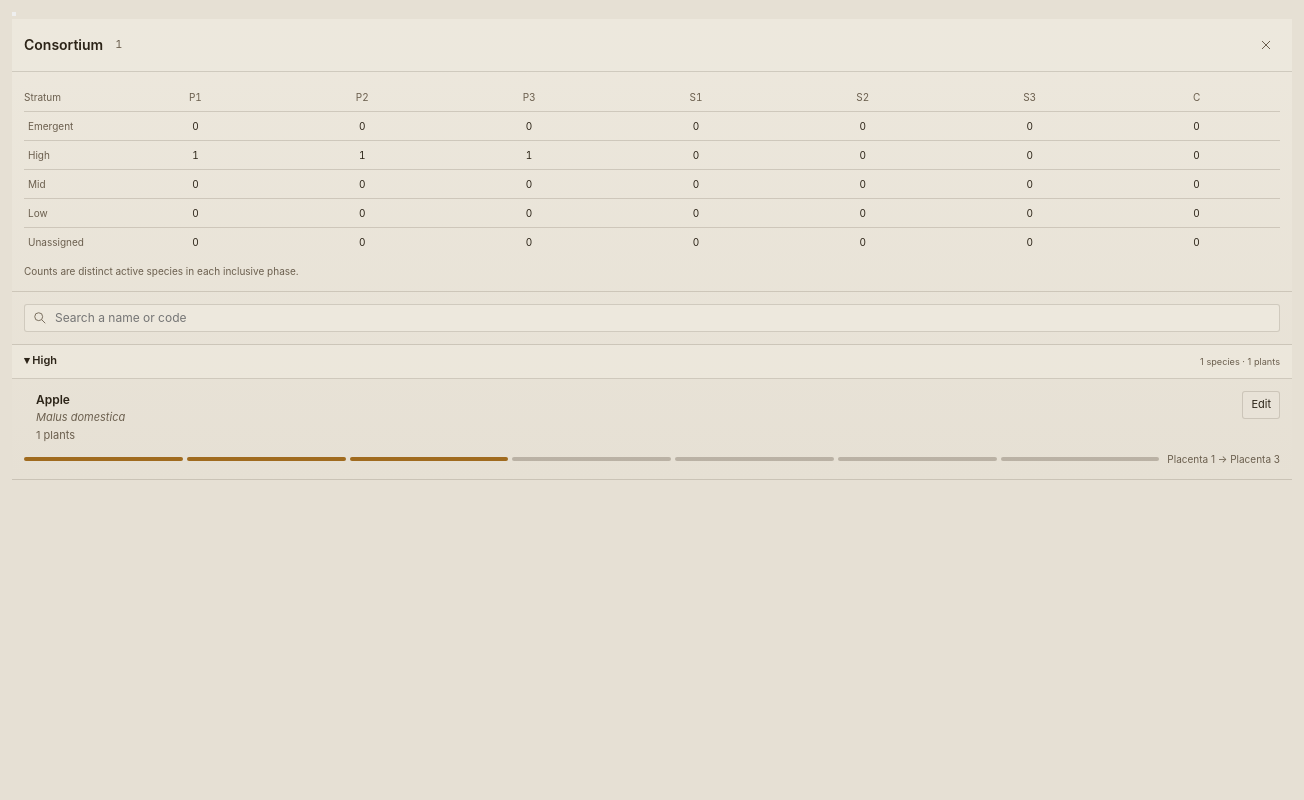
planning panel keyboard hierarchy › selects Consortium editor values from an unclipped floating menu
Click the button "Edit" at (1261, 405), box [1242, 391, 1280, 419]
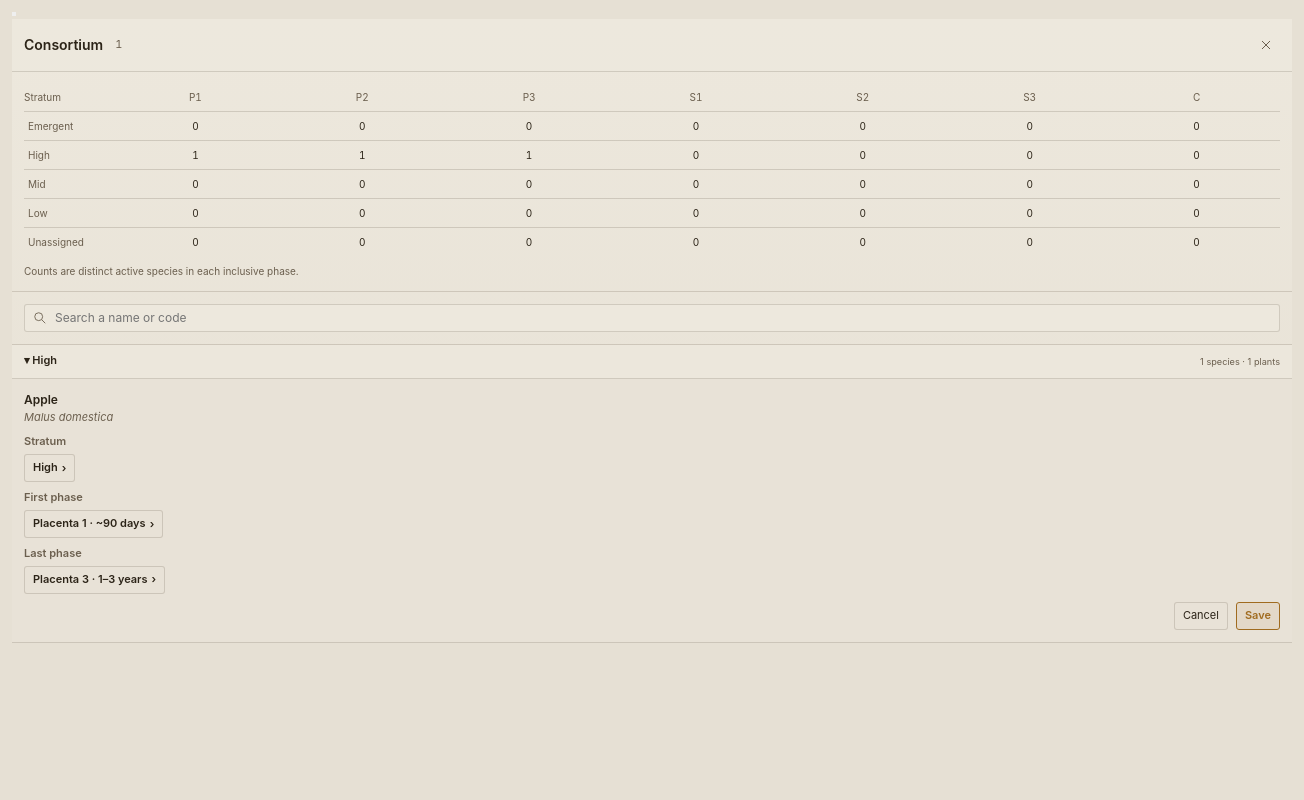
Click the button with aria-label "Stratum" at (50, 468), box [24, 454, 75, 482]
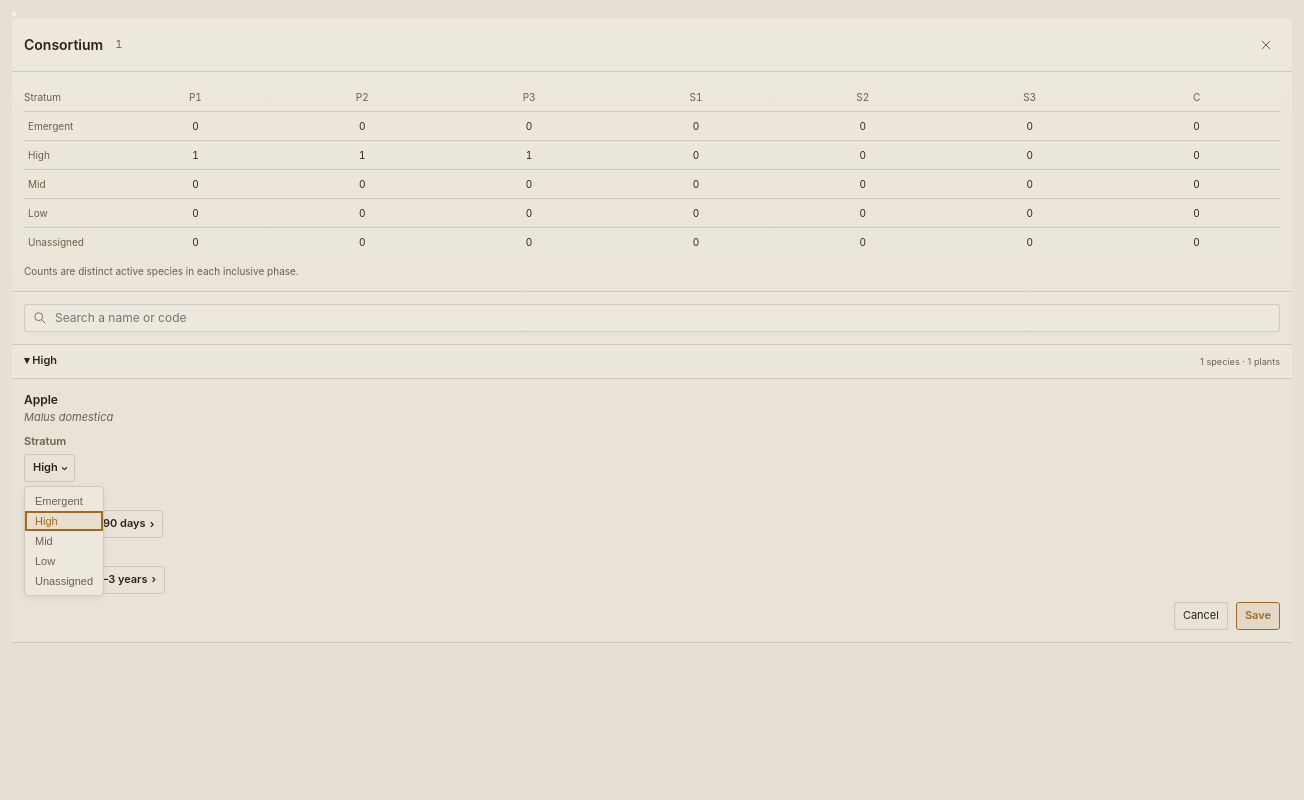
Click the option "High" at (64, 521), box [25, 511, 103, 531]
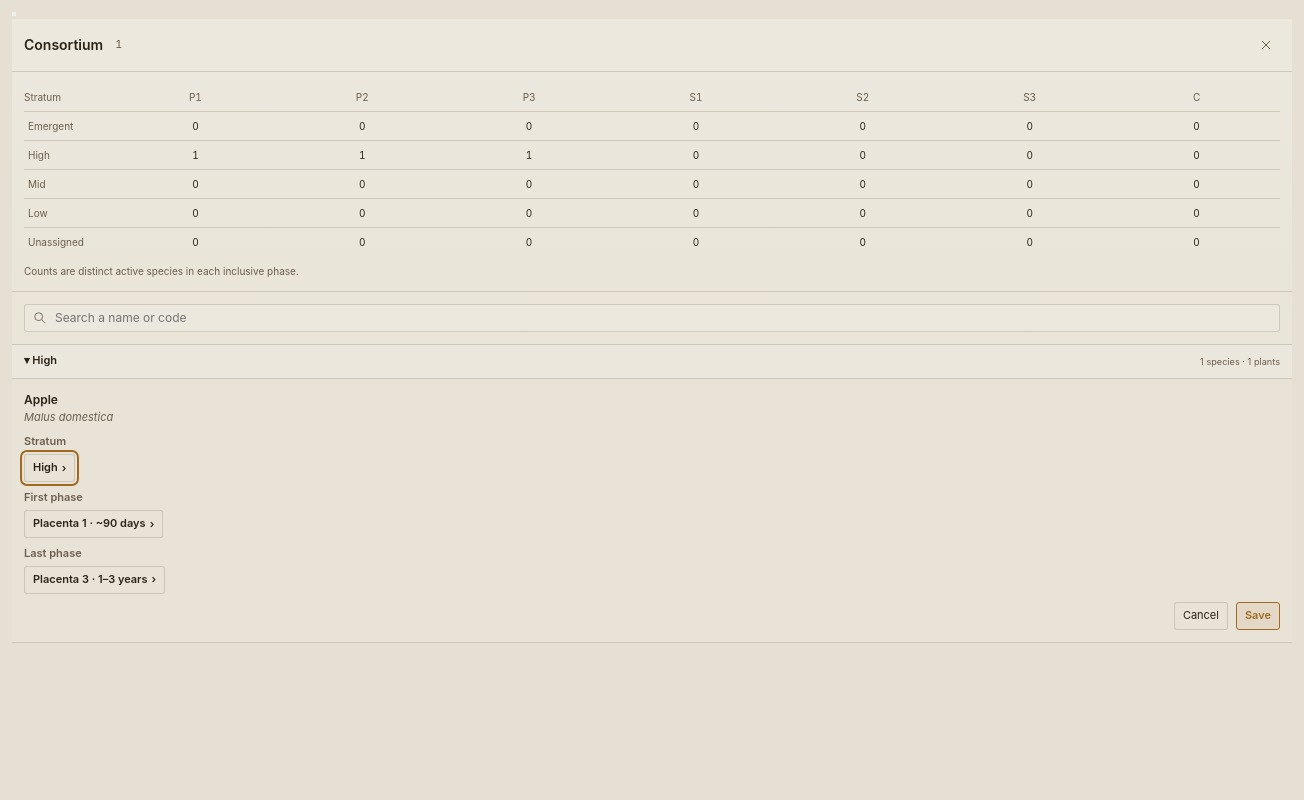
Expected: the list "Emergent High Mid Low Unassigned" is gone
